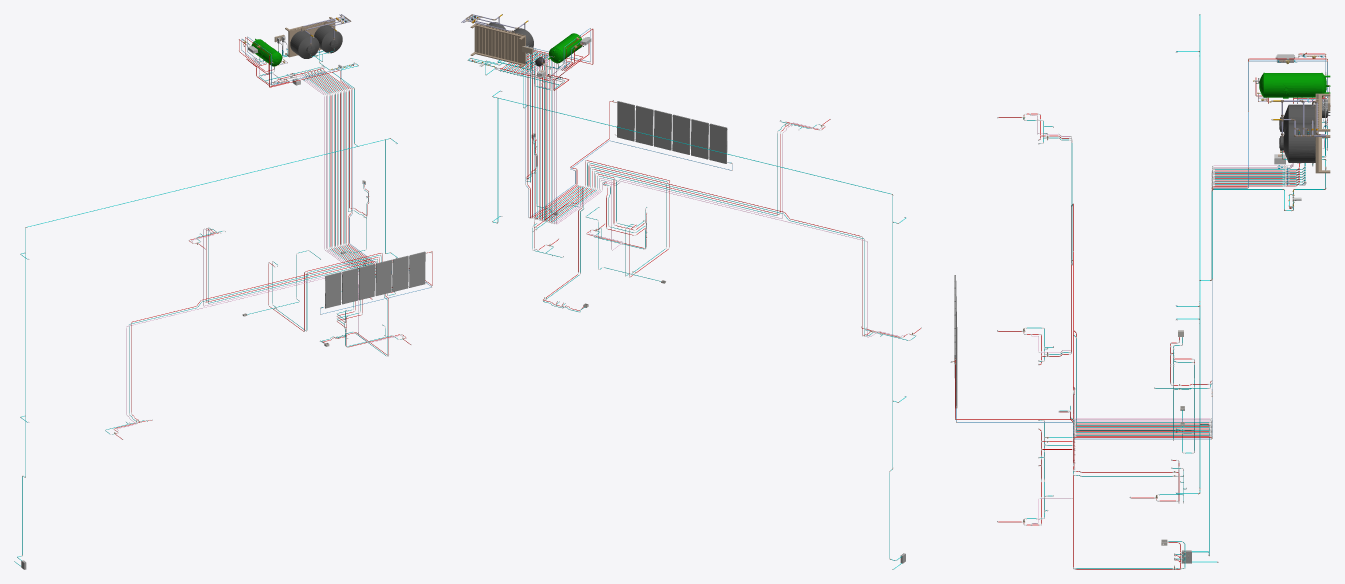
The model's file is hidraulico-opt.glb.
The picture shows the model from 3 angles, left to right: view 1: azimuth 30°, elevation 25°; view 2: azimuth 150°, elevation 25°; view 3: azimuth 270°, elevation 25°; orthographic projection. The views are drawn at different scales.
Parts seen in each view (by area): view 1: IfcFlowSegment_156; view 2: IfcFlowSegment_156; view 3: IfcFlowSegment_156.
Part boxes in pixels (x1,y1,x2,y2): IfcFlowSegment_156: (14, 14, 432, 569); IfcFlowSegment_156: (461, 14, 921, 569); IfcFlowSegment_156: (950, 14, 1330, 569).
Size of the model in its own units: 23.86 by 26.75 by 12.88.
